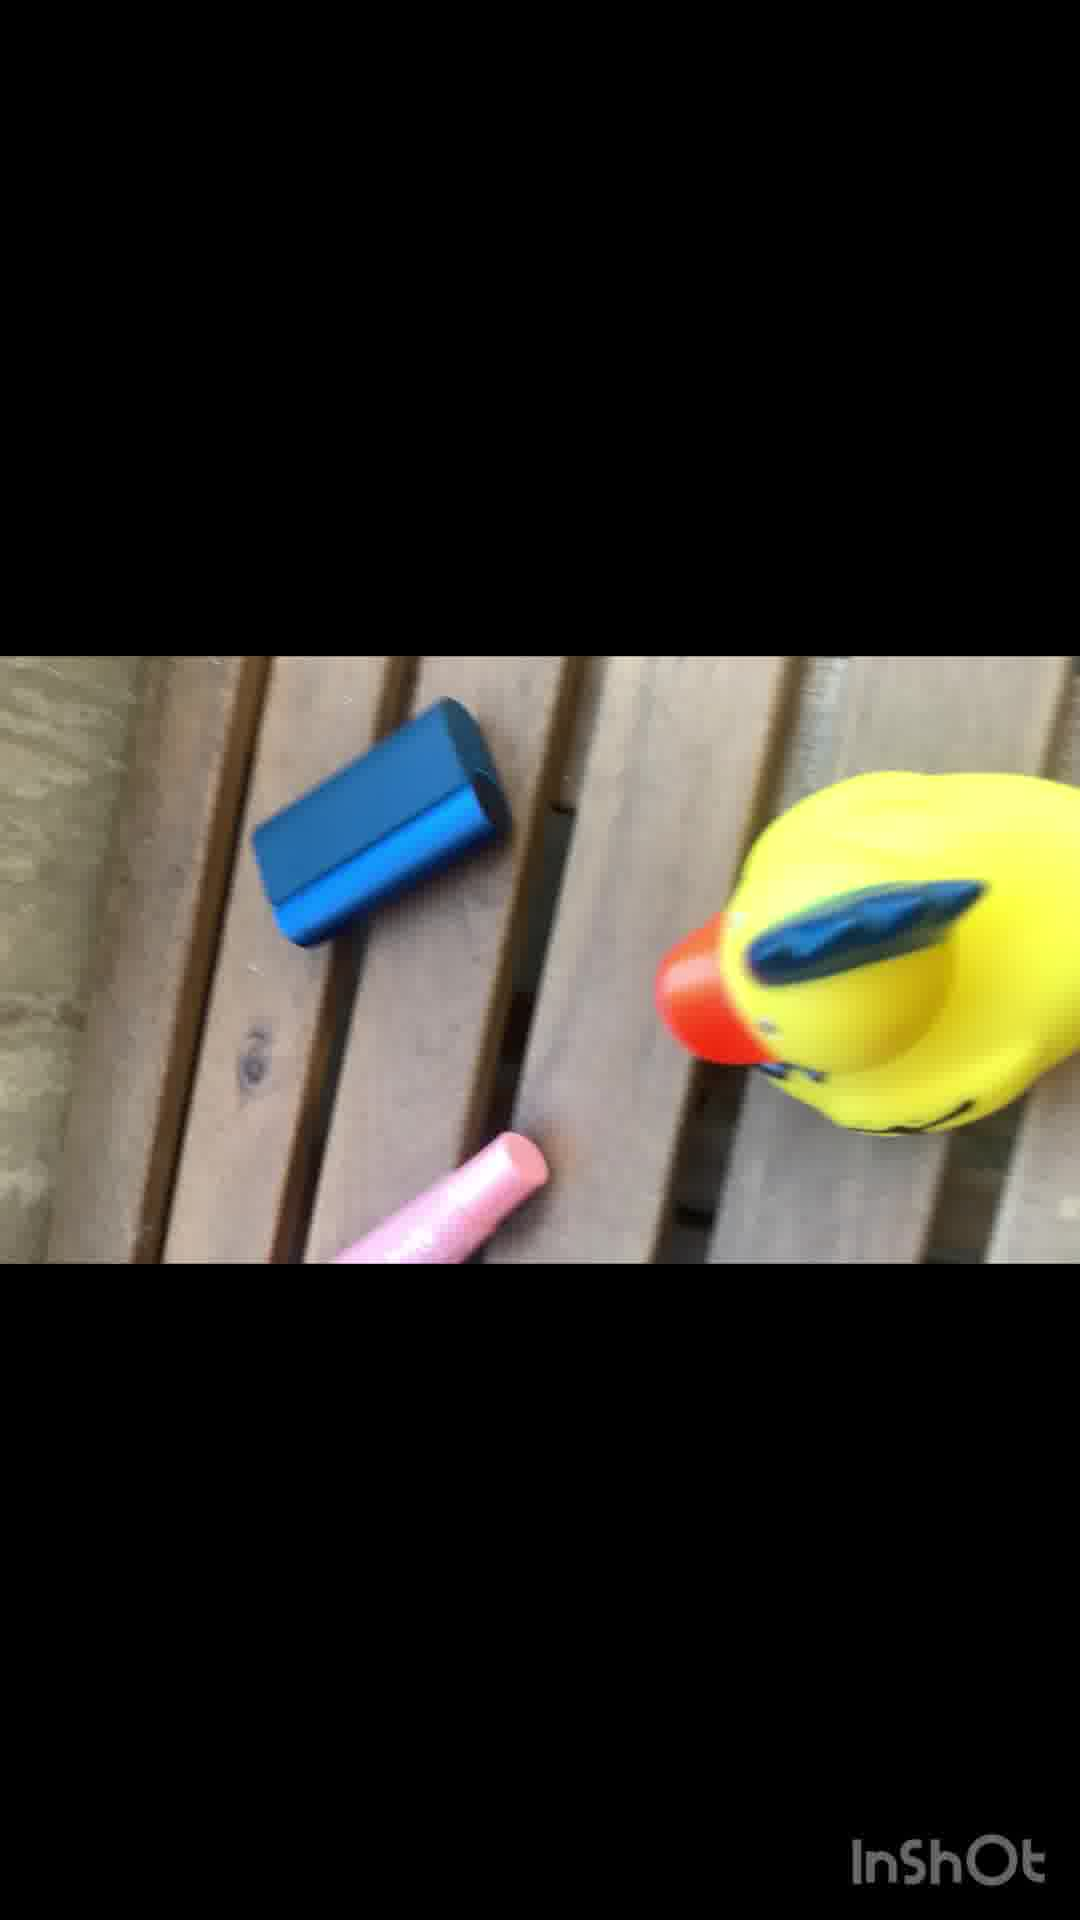duck: (662, 785, 1080, 1141)
glo: (251, 700, 516, 952)
lip balm: (303, 1145, 551, 1269)
